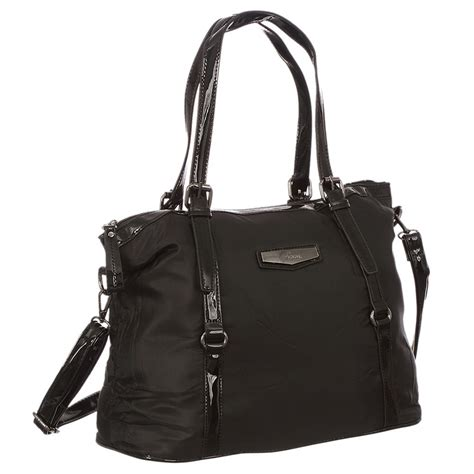nylon: (99, 181, 425, 464)
